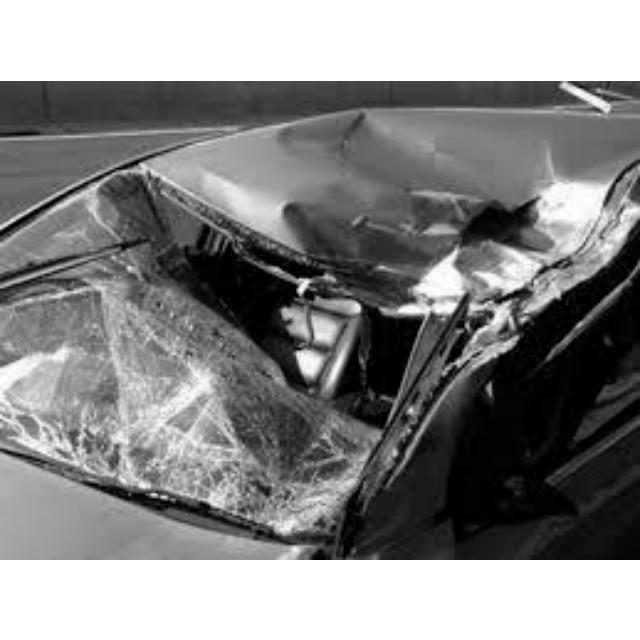Front-windscreen-damage: (0, 162, 464, 557)
roof-dent: (143, 100, 637, 312)
